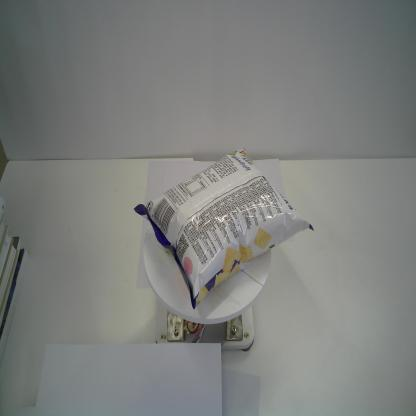Puffed Food: (133, 146, 314, 311)
